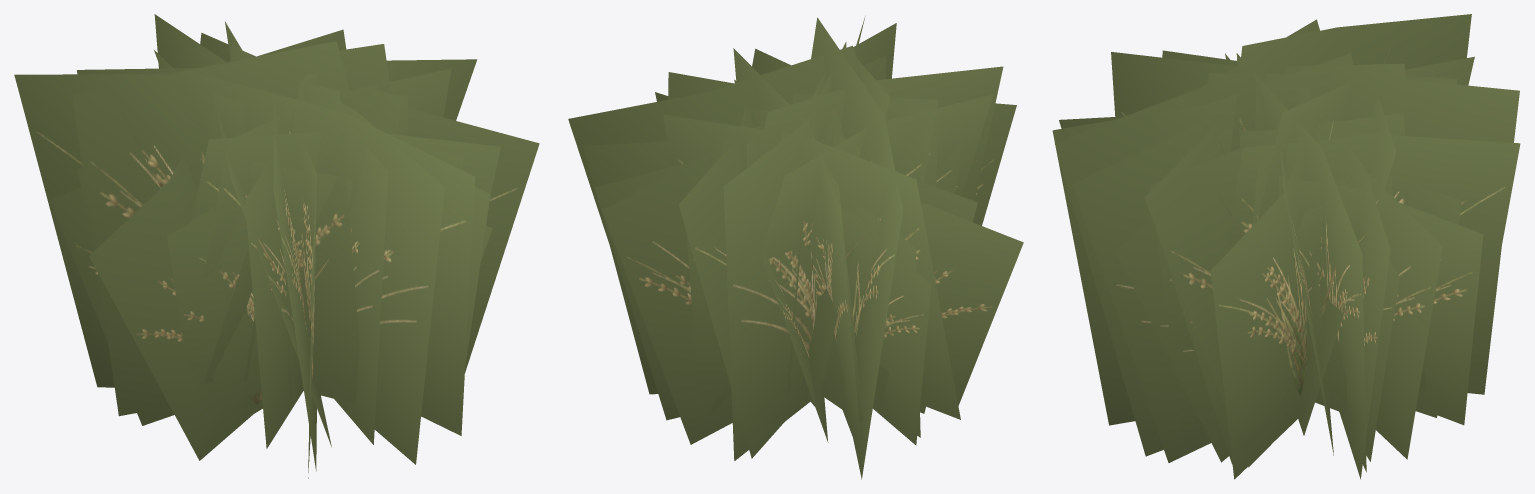
The model's file is dhani_grass.glb.
3 renders of one model, left to right at view 1: azimuth 30°, elevation 25°; view 2: azimuth 150°, elevation 25°; view 3: azimuth 270°, elevation 25°, orthographic. The views are drawn at different scales.
Visible parts, largest first — view 1: leaves; view 2: leaves; view 3: leaves.
Part boxes in pixels (box(x1,y1,x2,y2)): leaves: box(14, 14, 539, 478); leaves: box(568, 16, 1023, 479); leaves: box(1052, 14, 1520, 479).
Bounding box in the file's own units: 1.31 × 1.1 × 1.24.
1 material, 1 textured.
